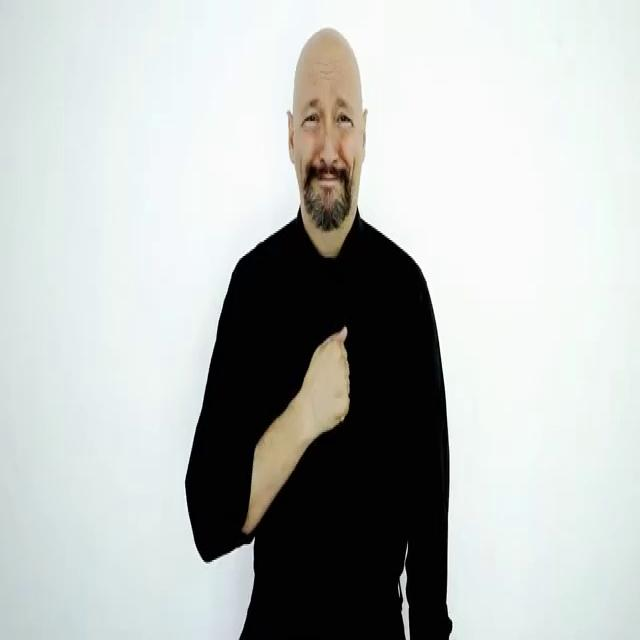sorry: (304, 330, 352, 440)
